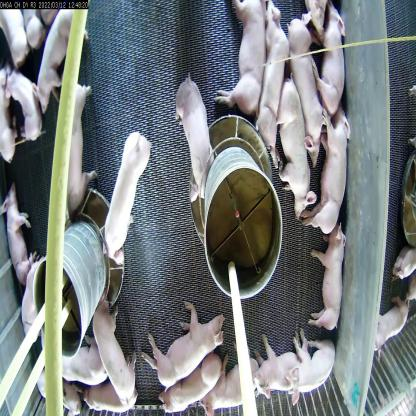Pig: (81, 305, 149, 415), (96, 124, 148, 266), (55, 59, 96, 209), (22, 13, 89, 104), (153, 302, 223, 389), (275, 71, 315, 218), (169, 75, 212, 206), (312, 113, 354, 241), (223, 0, 268, 112), (288, 13, 322, 156), (255, 9, 285, 151), (311, 3, 347, 117), (314, 219, 348, 336), (0, 171, 29, 303), (285, 338, 337, 408), (247, 332, 298, 400), (0, 55, 41, 139), (160, 356, 219, 414), (51, 336, 118, 386), (206, 360, 265, 416)
